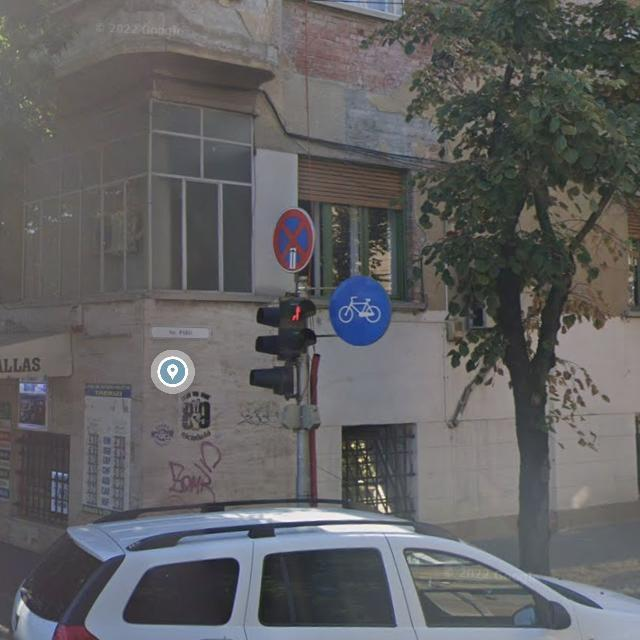forb_waiting: (273, 208, 315, 273)
